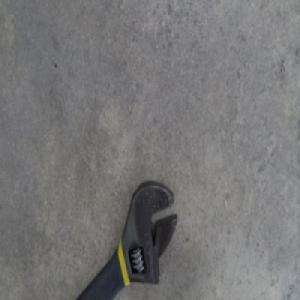AdjustableWrench: (72, 177, 176, 298)
